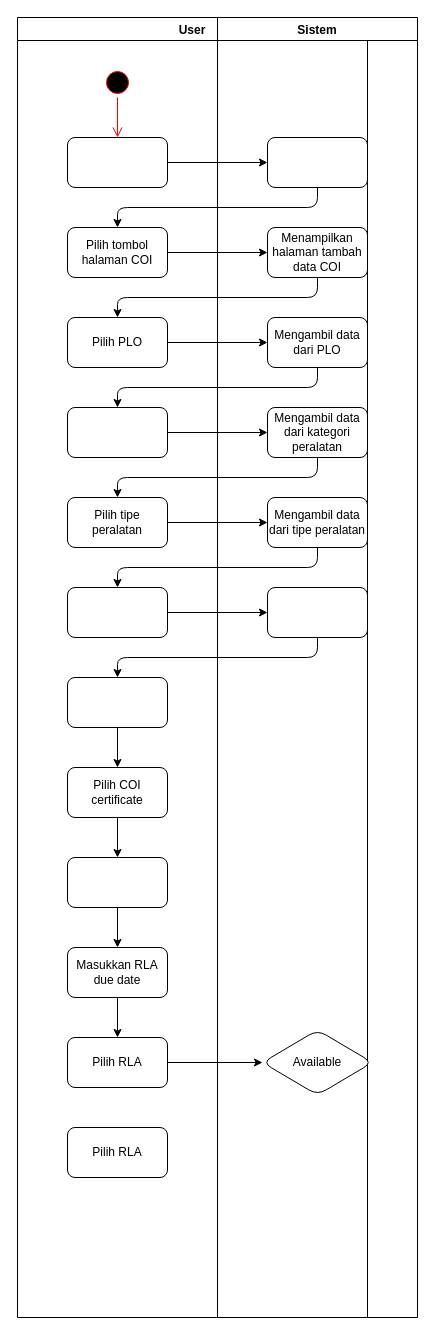
Some shapes in this 435 by 1335 pixel diagram are drawn without their labels. The shapes that lost their labels are listed below. From the top down, each one's centre as x and y in pixels, then its label:
pixel 117 162: Membuka halaman COI
pixel 317 162: Menampilkan halaman COI
pixel 117 432: Pilih kategori peralatan
pixel 117 612: Pilih tag number
pixel 317 612: Mengambil data dari tag number
pixel 117 702: Masukkan No. certificate
pixel 117 882: Masukkan issue date
